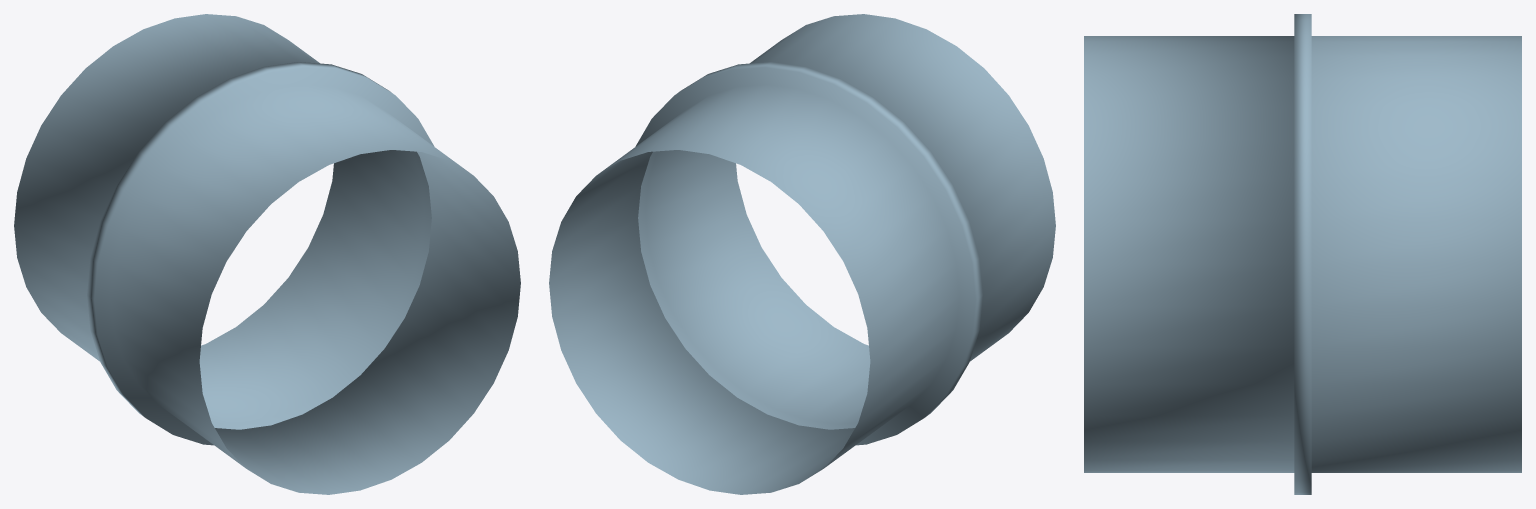
The model's file is pipe1.fbx.
The picture shows the model from 3 angles, left to right: view 1: azimuth 30°, elevation 25°; view 2: azimuth 150°, elevation 25°; view 3: azimuth 270°, elevation 25°; orthographic projection. The views are drawn at different scales.
Parts seen in each view (by area): view 1: Pipe; view 2: Pipe; view 3: Pipe.
Part boxes in pixels (x1,y1,x2,y2): Pipe: (14,14,520,494); Pipe: (549,14,1055,494); Pipe: (1084,14,1521,494).
Size of the model in its own units: 0.924 by 0.924 by 0.84.
